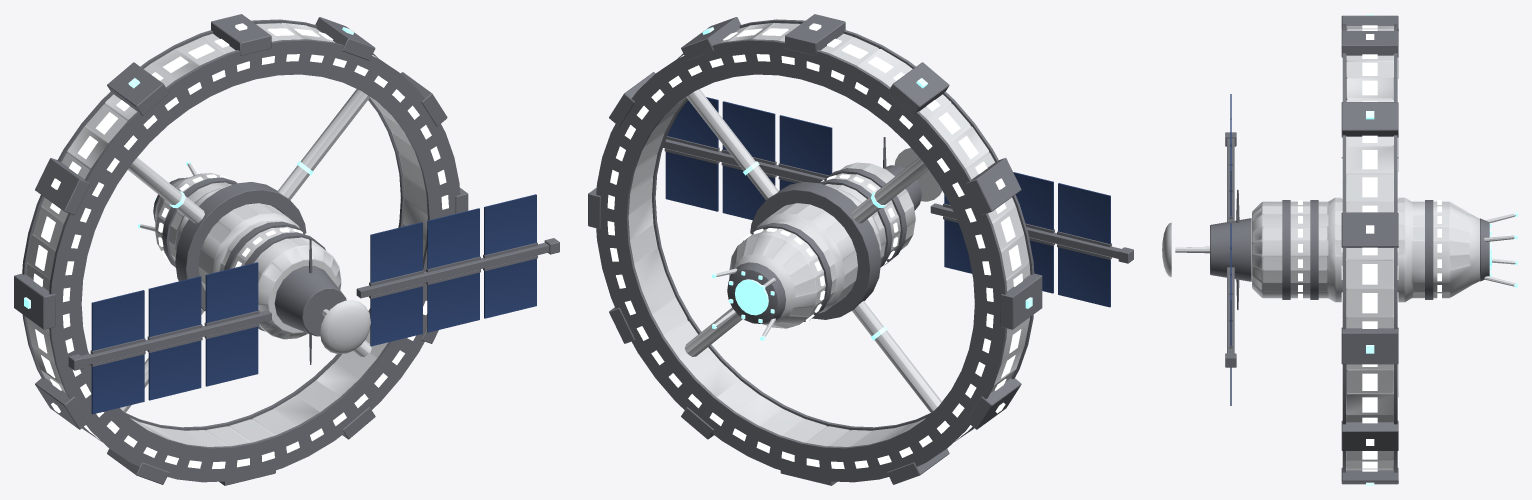
The model's file is station.glb.
3 views of the same model, side by side, from view 1: azimuth 30°, elevation 25°; view 2: azimuth 150°, elevation 25°; view 3: azimuth 270°, elevation 25° (orthographic). The views are drawn at different scales.
Visible parts, largest first — view 1: Ring, Hub; view 2: Ring, Hub; view 3: Ring, Hub.
Boxes of the visible parts, left/top/right/bottom form: Ring: left=14, top=14, right=468, bottom=485; Hub: left=68, top=161, right=559, bottom=414; Ring: left=588, top=14, right=1042, bottom=485; Hub: left=663, top=97, right=1133, bottom=340; Ring: left=1341, top=14, right=1398, bottom=485; Hub: left=1162, top=94, right=1517, bottom=405.
Size of the model in its own units: 76.8 by 68 by 51.15.
